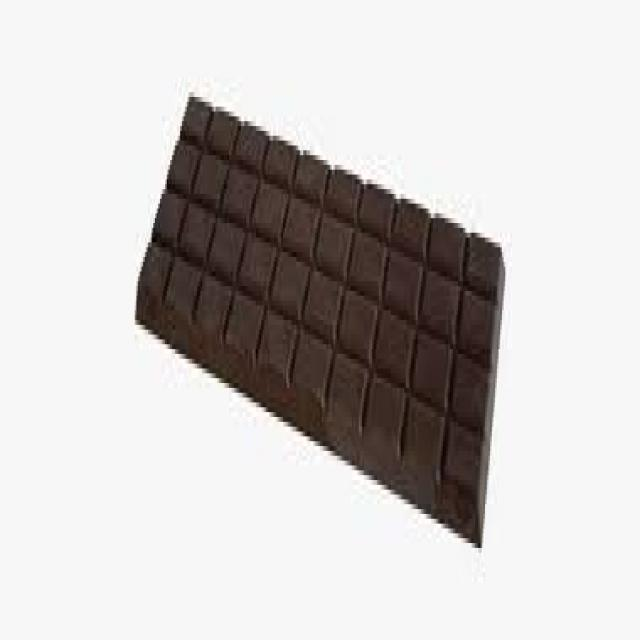Chocolate: (131, 85, 506, 553)
